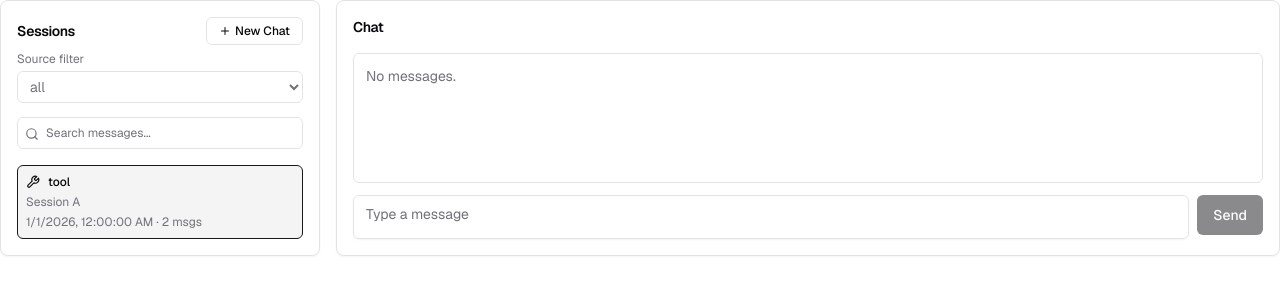
Scenario: chat search UI › shows search results when query is entered
Expected: the text "Session A" is shown, 26,194 -> 80,210
Type "gateway" into the field with placeholder "Search messages..." at x=160, y=133, box 17,117 -> 303,149
Wait 350 ms
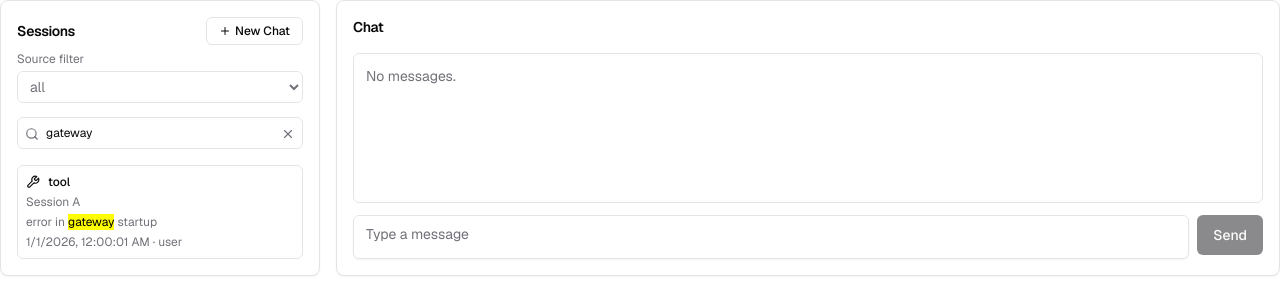
Expected: the text "gateway" is shown, 68,214 -> 114,230
